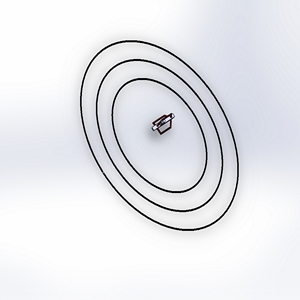submarine: (147, 108, 182, 157)
